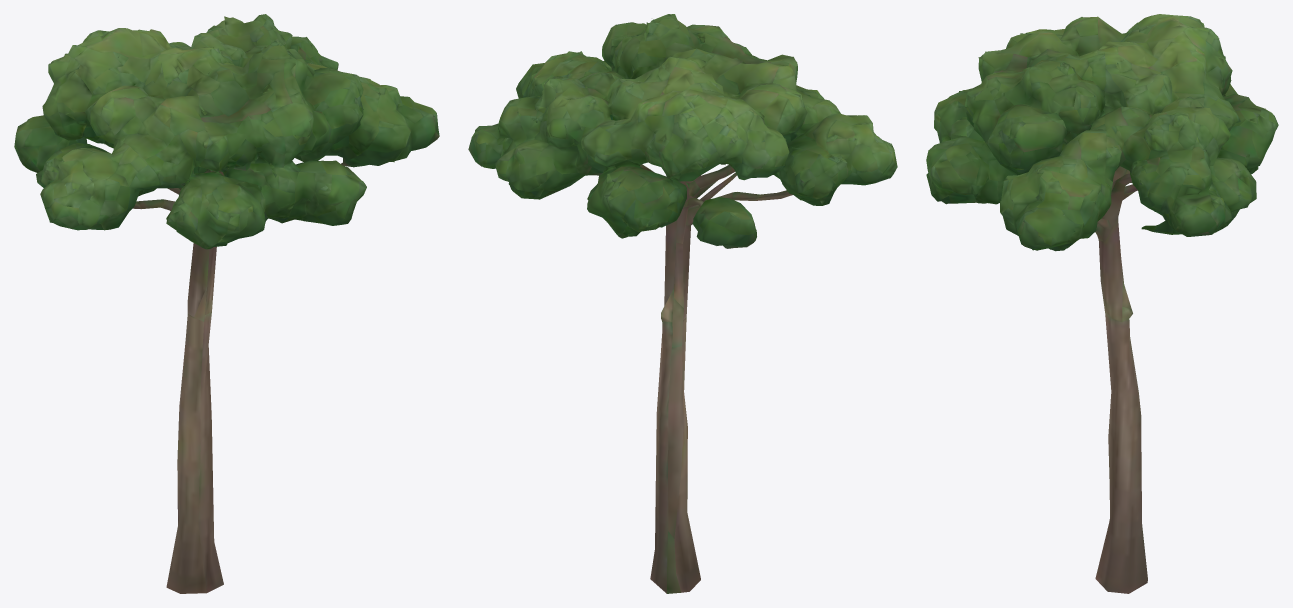
The model's file is stone-pine.glb.
3 renders of one model, left to right at view 1: azimuth 30°, elevation 25°; view 2: azimuth 150°, elevation 25°; view 3: azimuth 270°, elevation 25°, orthographic. The views are drawn at different scales.
Bounding box in the file's own units: 1.38 × 1.89 × 1.1.
Materials: 1 (1 with a texture image).
